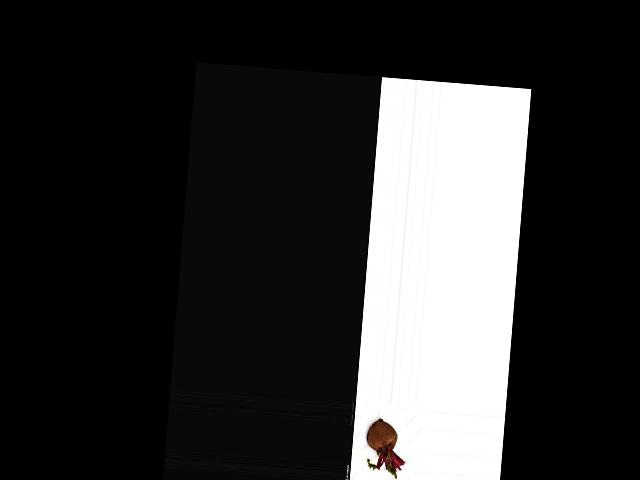beet: (363, 417, 408, 479)
